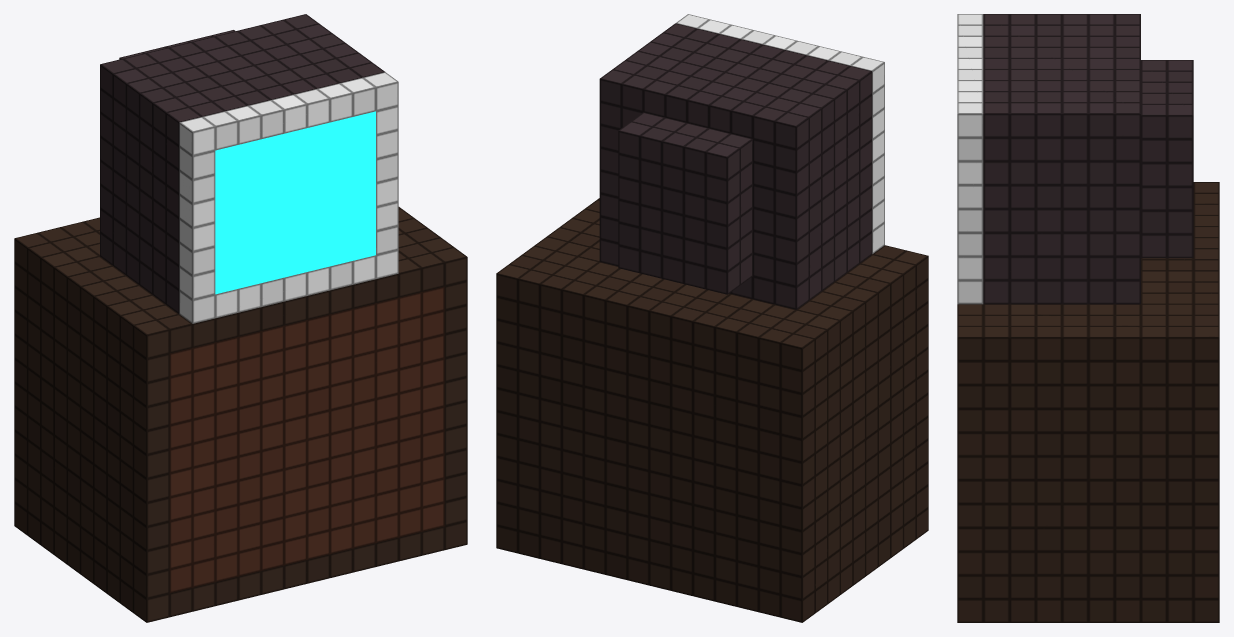
Rendered from crt_monitor.glb.
3 views of the same model, side by side, from view 1: azimuth 30°, elevation 25°; view 2: azimuth 150°, elevation 25°; view 3: azimuth 270°, elevation 25° (orthographic). The views are drawn at different scales.
Visible parts, largest first — view 1: crt_monitor; view 2: crt_monitor; view 3: crt_monitor.
Part boxes in pixels (box(x1,y1,x2,y2)): crt_monitor: box(14, 14, 467, 622); crt_monitor: box(496, 14, 928, 622); crt_monitor: box(957, 14, 1219, 622).
Size of the model in its own units: 0.7 by 1 by 0.5.
5 materials, 4 textured.
